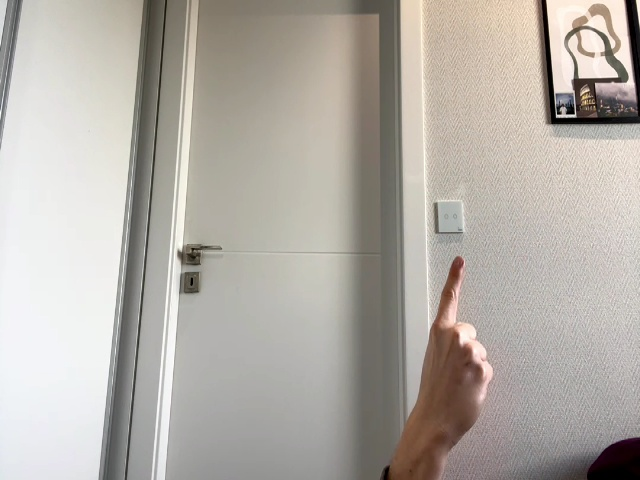D: (418, 257, 494, 442)
